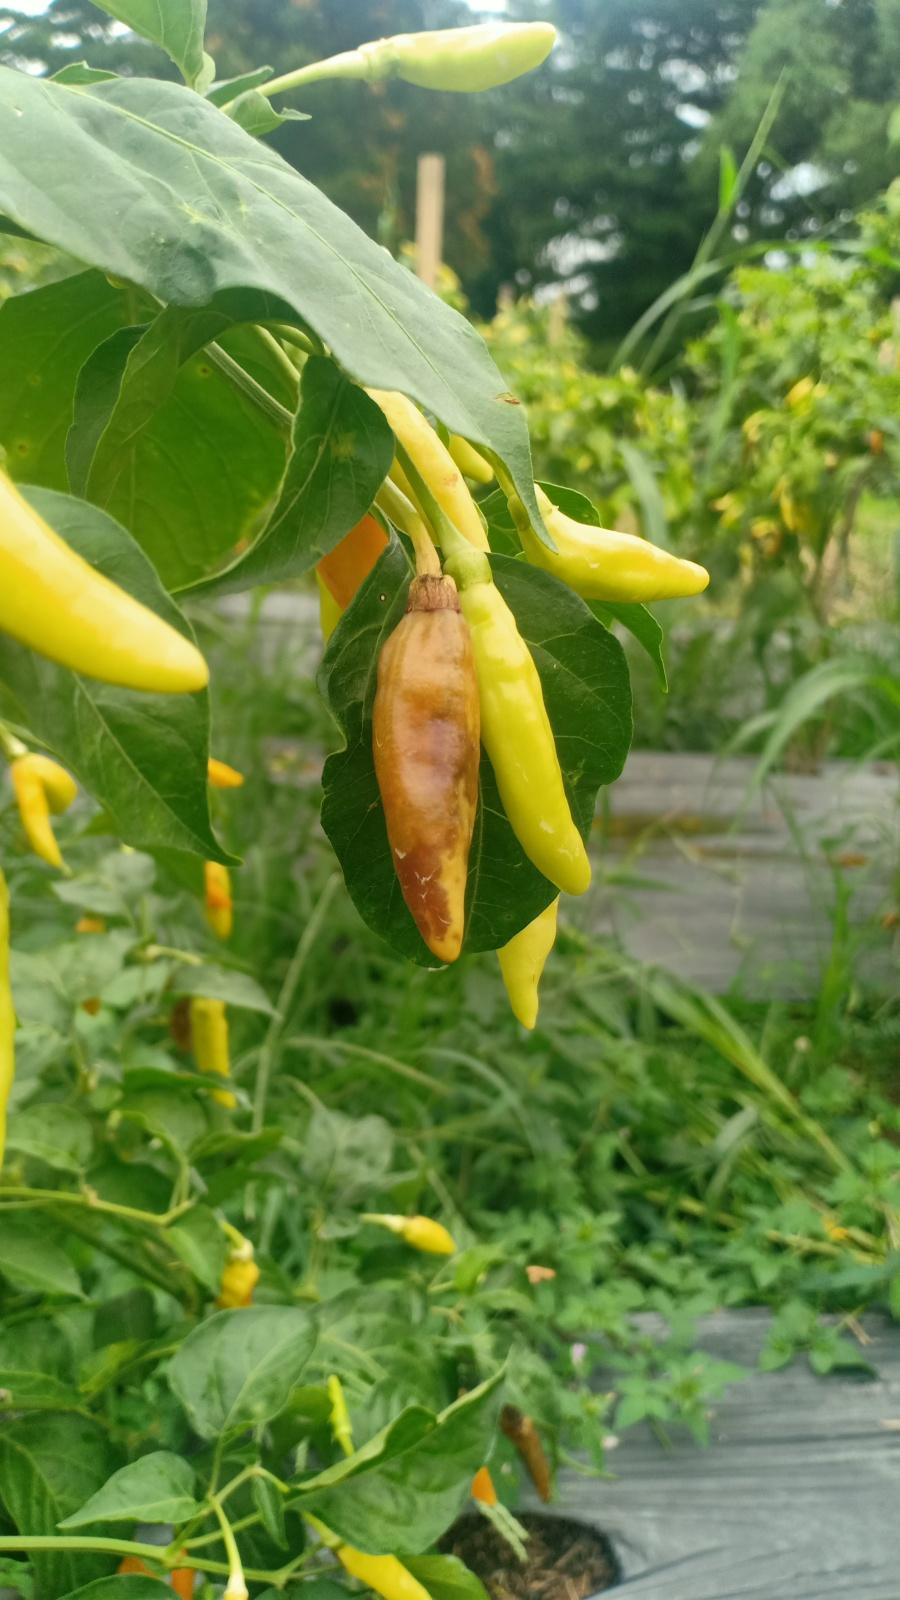cabai_normal: (1, 477, 211, 693), (465, 586, 589, 897), (522, 502, 710, 599), (385, 21, 557, 95), (8, 753, 70, 874), (413, 1216, 442, 1251)
lalat_buah: (373, 597, 480, 962), (509, 1416, 554, 1504)
